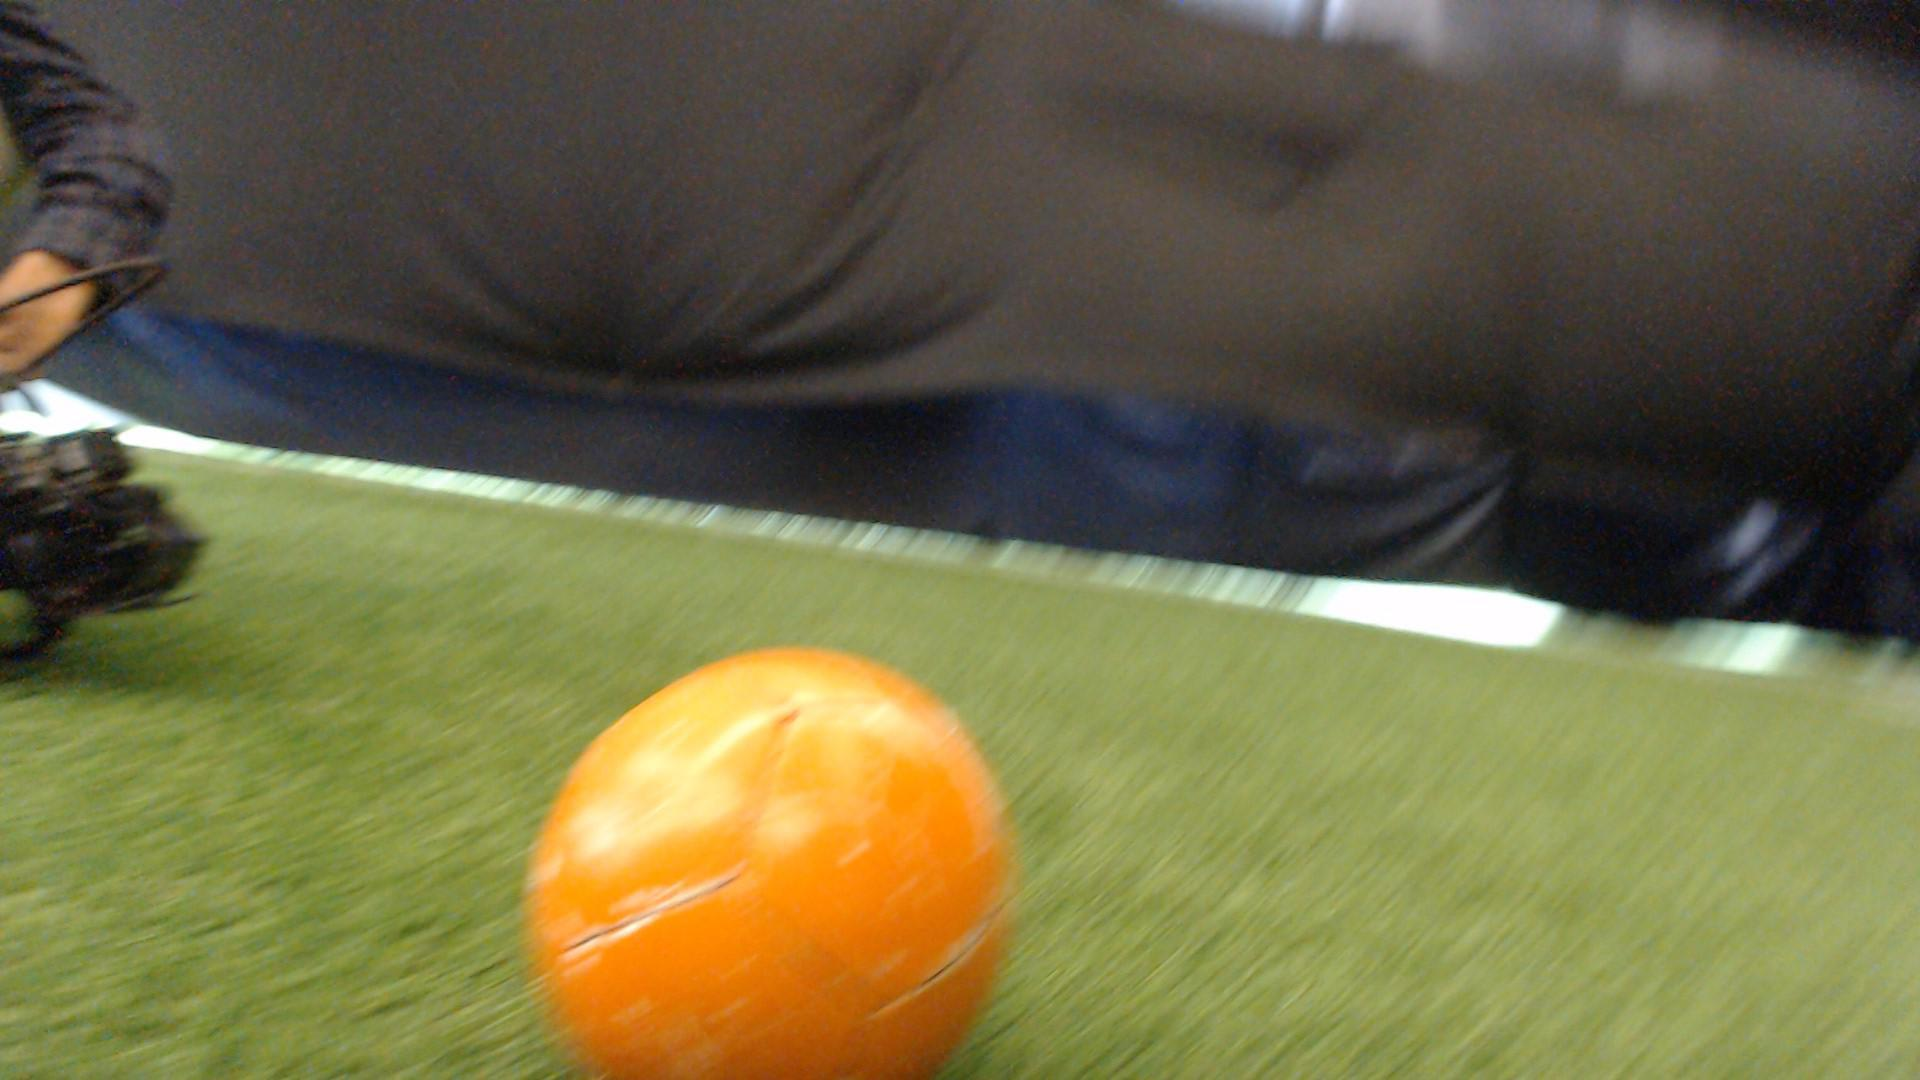bola: (497, 632, 1040, 1079)
